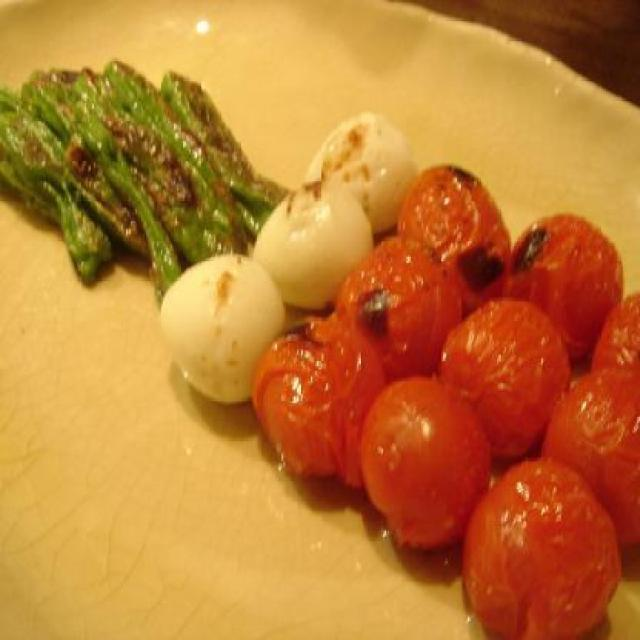Tomato: (254, 161, 639, 640), (364, 377, 498, 565)
